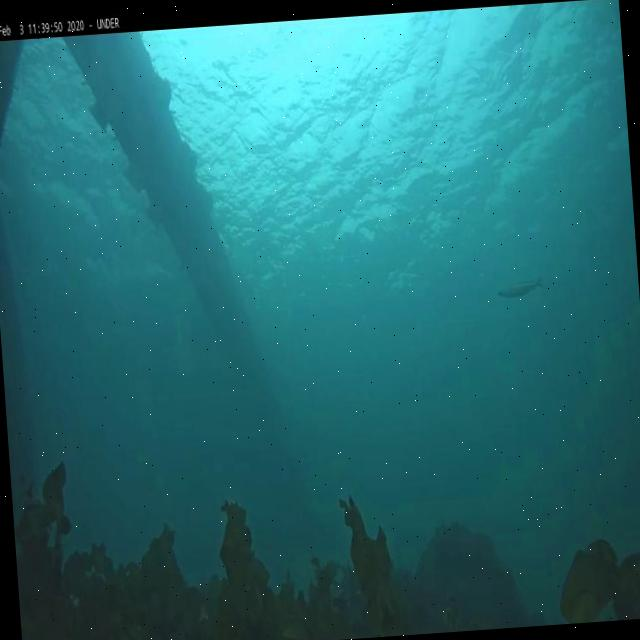fish: (498, 277, 544, 303)
